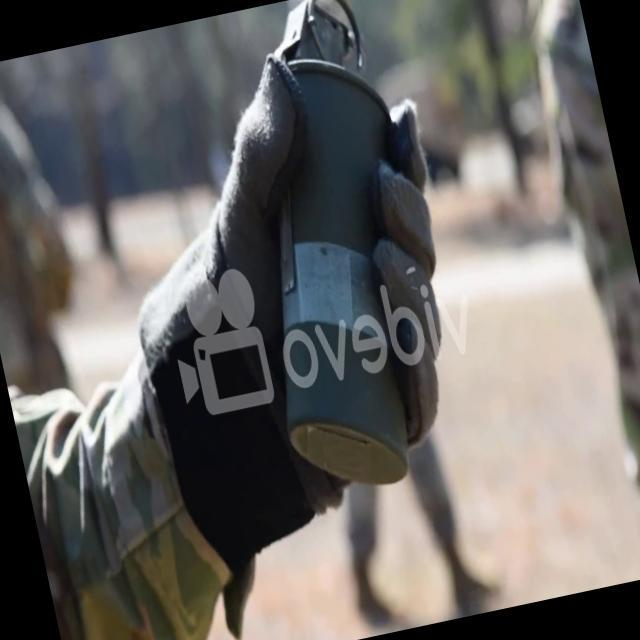grenade: (197, 0, 479, 505)
